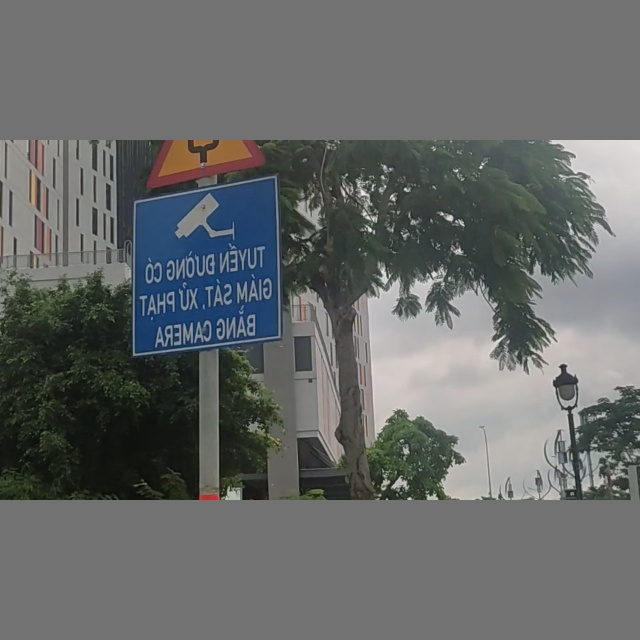Camera: (133, 179, 279, 355)
W.246a: (143, 141, 268, 187)
